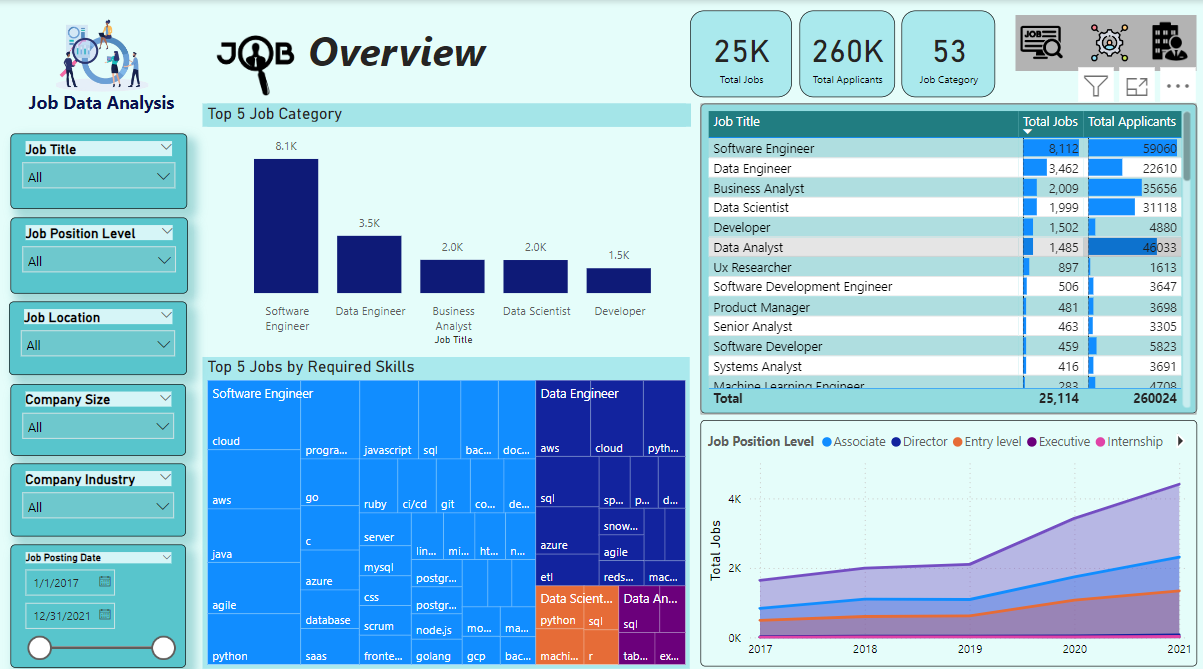

Layout of this report page (visuals, bound fields, positions):
{"tool":"powerbi","page":{"name":"Jobs ","canvas":[1280,720],"ordinal":0},"visuals":[{"type":"image","box":[0,0,215.5,109.1],"z":0,"group":"g5"},{"type":"image","box":[1077.3,16,54.9,58.6],"z":0,"group":"g1"},{"type":"treemap","title":"Top 5 Jobs by Required Skills ","fields":{"Group":["job_postings.Job Title"],"Details":["Skills.Job Skills"],"Values":["CountNonNull(Skills.Job Skills)"]},"box":[215.5,378.6,516.9,330.7],"z":0},{"type":"card","fields":{"Values":["_Measures.Posting Count"]},"box":[732.4,11.5,108.2,92.2],"z":1000},{"type":"image","box":[1152.4,18.7,49.4,52.2],"z":1000,"group":"g1"},{"type":"textbox","box":[14.2,90.4,186.2,39],"z":1000,"group":"g5"},{"type":"image","box":[1212.8,16,57.7,55.9],"z":2000,"group":"g1"},{"type":"areaChart","fields":{"Category":["job_postings.Year"],"Series":["job_postings.Job Position Level"],"Y":["_Measures.Total Jobs"]},"box":[743.1,445.1,526.7,261.6],"z":2000},{"type":"group","id":"g1","title":"Group 2","box":[1077.3,16,192.4,58.5],"z":3000},{"type":"group","id":"g2","title":"Group 4","box":[196,2.7,373.3,126.8],"z":4000},{"type":"group","id":"g3","title":"Group 5","box":[0,0,215.5,706.7],"z":5000},{"type":"clusteredColumnChart","title":"Top 5 Job Category","fields":{"Category":["job_postings.Job Title"],"Y":["_Measures.Total Jobs"]},"box":[214.6,110,517.8,260.7],"z":6000},{"type":"group","id":"g4","title":"Group 1","box":[8.9,141,189,565.7],"z":6000,"group":"g3"},{"type":"textbox","box":[258.1,11.9,311.2,75.4],"z":7000,"group":"g2"},{"type":"tableEx","fields":{"Values":["job_postings.Job Title","_Measures.Total Jobs","_Measures.Total Applicants"]},"box":[743.1,110,526.7,329],"z":7000},{"type":"slicer","fields":{"Values":["job_postings.Job Title"]},"box":[9.9,141,187.1,79.8],"z":7500,"group":"g4"},{"type":"slicer","fields":{"Values":["job_postings.Job Position Level"]},"box":[9.9,229.7,188,80.7],"z":7750,"group":"g4"},{"type":"slicer","fields":{"Values":["job_postings.Job Location"]},"box":[8.9,319.2,188.9,78],"z":7875,"group":"g4"},{"type":"slicer","fields":{"Values":["job_postings.Company Size"]},"box":[9.8,407,186.2,76.3],"z":7937,"group":"g4"},{"type":"slicer","fields":{"Values":["job_postings.Company Industry"]},"box":[9.8,491.2,186.2,77.1],"z":7968,"group":"g4"},{"type":"slicer","fields":{"Values":["job_postings.Job Posting Date"]},"box":[10.8,576.4,186.2,130.3],"z":7984,"group":"g4"},{"type":"image","box":[196,2.7,150.7,126.8],"z":8000,"group":"g2"},{"type":"card","fields":{"Values":["_Measures.Total Applicants"]},"box":[848.6,11.5,101.1,92.2],"z":8000},{"type":"card","fields":{"Values":["Count(job_postings.Job Title)"]},"box":[956.7,11.5,99.3,92.2],"z":9000},{"type":"group","id":"g5","title":"Group 3","box":[0,0,215.5,129.5],"z":10003,"group":"g3"}]}

Visuals, with their boxes on the page's 1280x720 design canvas (x1, y1, x2, y2). These are canvas units, not pixel positions in the 1203x669 screenshot, which may show the page scaled, cropped or inside an application window:
image: (0,0,216,109)
image: (1077,16,1132,75)
"Top 5 Jobs by Required Skills " treemap: (216,379,732,709)
card - _Measures.Posting Count: (732,12,841,104)
image: (1152,19,1202,71)
textbox: (14,90,200,129)
image: (1213,16,1270,72)
areaChart - job_postings.Year x job_postings.Job Position Level: (743,445,1270,707)
"Group 2" group: (1077,16,1270,74)
"Group 4" group: (196,3,569,130)
"Group 5" group: (0,0,216,707)
"Top 5 Job Category" clusteredColumnChart: (215,110,732,371)
"Group 1" group: (9,141,198,707)
textbox: (258,12,569,87)
tableEx - job_postings.Job Title x _Measures.Total Jobs: (743,110,1270,439)
slicer - job_postings.Job Title: (10,141,197,221)
slicer - job_postings.Job Position Level: (10,230,198,310)
slicer - job_postings.Job Location: (9,319,198,397)
slicer - job_postings.Company Size: (10,407,196,483)
slicer - job_postings.Company Industry: (10,491,196,568)
slicer - job_postings.Job Posting Date: (11,576,197,707)
image: (196,3,347,130)
card - _Measures.Total Applicants: (849,12,950,104)
card - Count(job_postings.Job Title): (957,12,1056,104)
"Group 3" group: (0,0,216,130)
